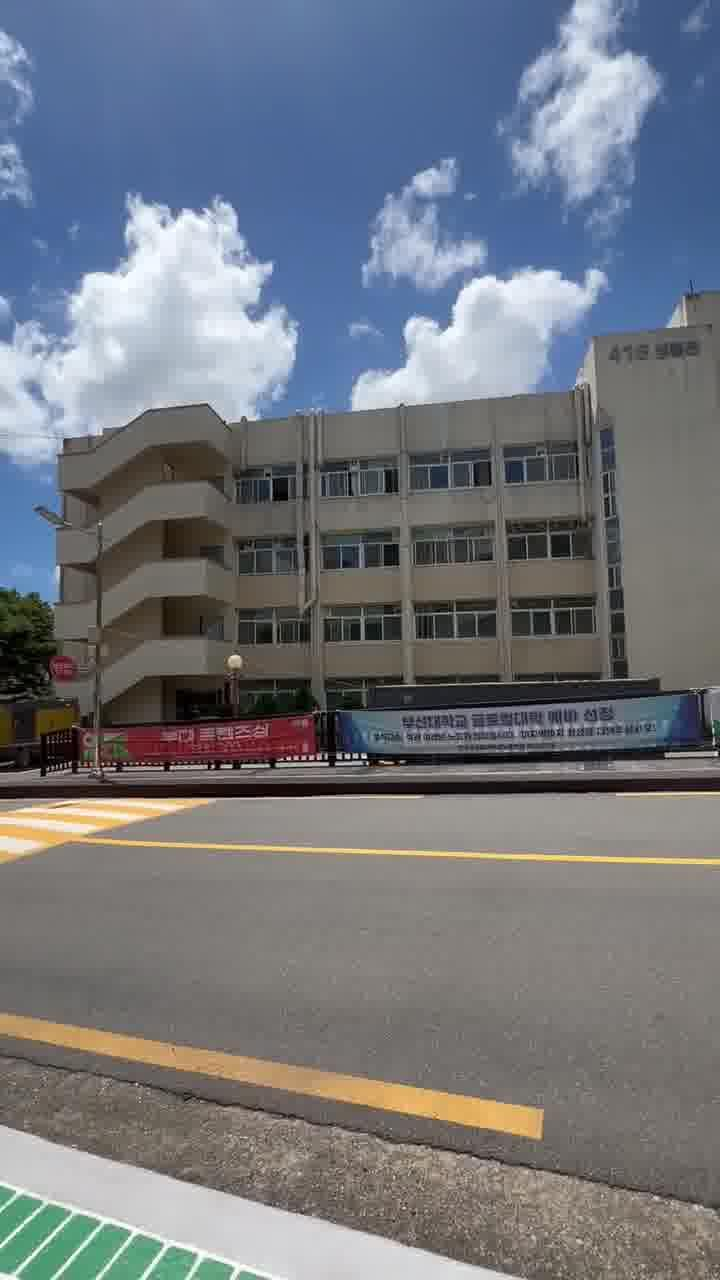building: (64, 298, 720, 694)
